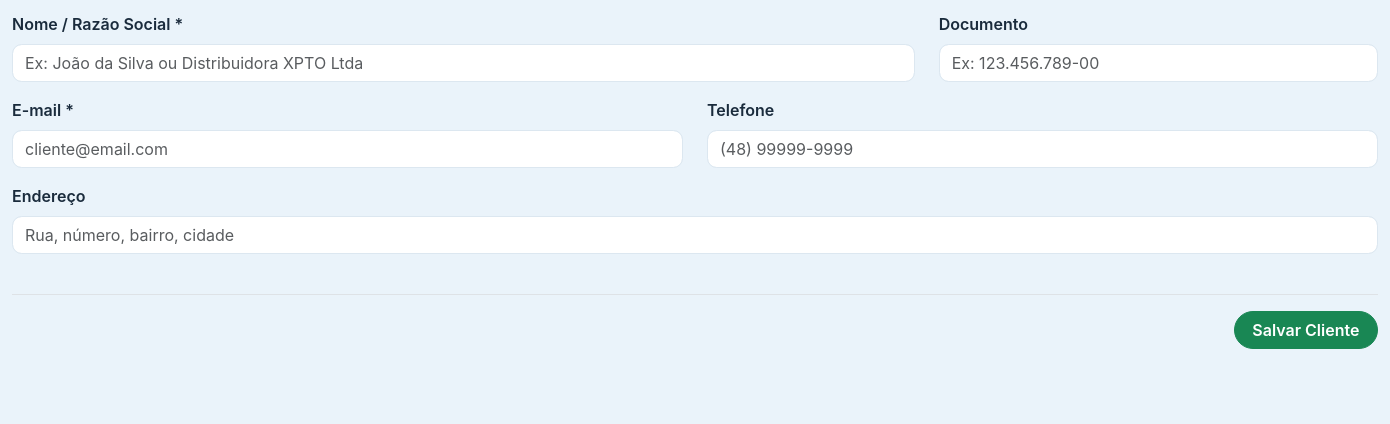
Organism FormCreateClient › deve exibir mensagem de erro se o documento contiver caracteres inválidos
This screenshot has width=1390, height=424.
In the field labelled "Nome / Razão Social *": [463, 63] box [12, 44, 915, 82], type "Cliente Teste"
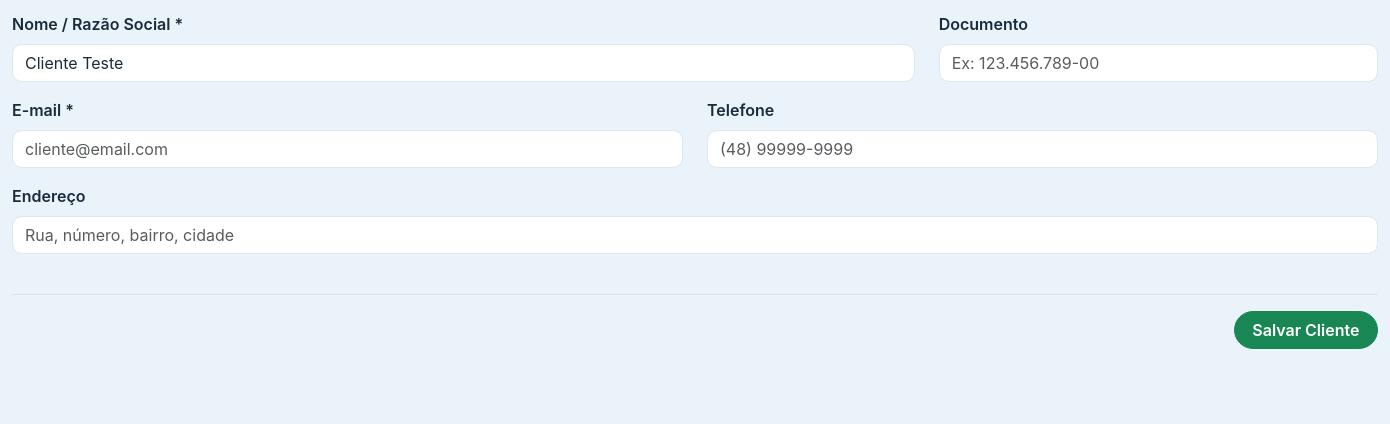
In the field labelled "E-mail *": [348, 149] box [12, 130, 683, 168], type "teste@cliente.com"
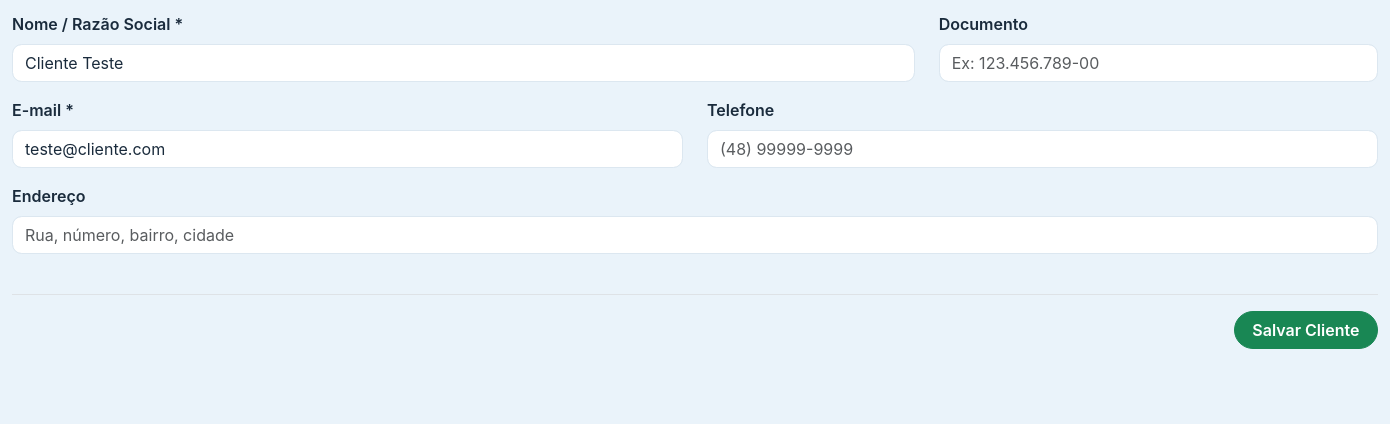
In the field labelled "Documento": [1158, 63] box [939, 44, 1378, 82], type "123.456.789-00abc"
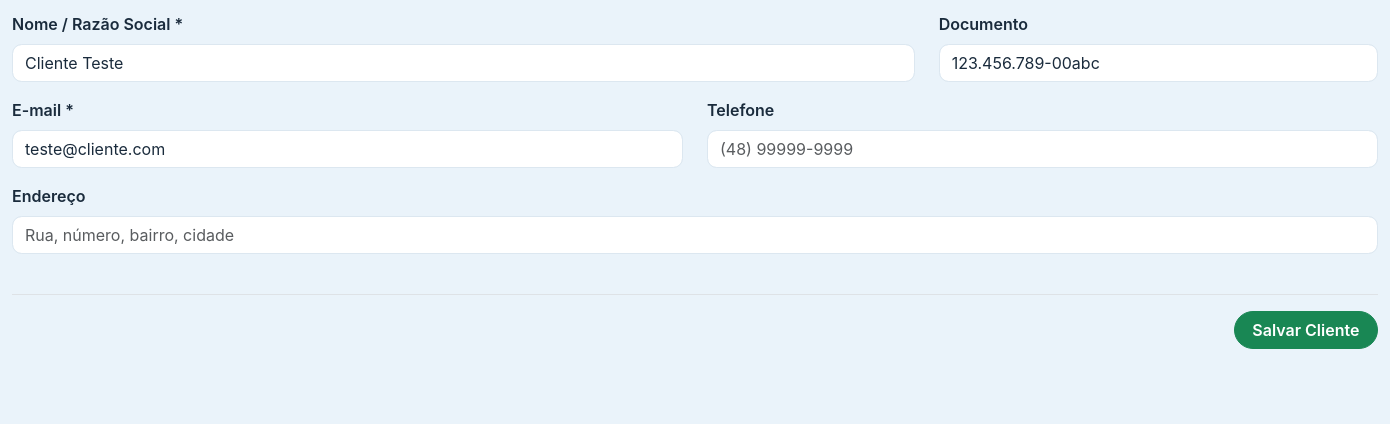
Click the button "Salvar Cliente": [1306, 330] box [1234, 311, 1378, 349]
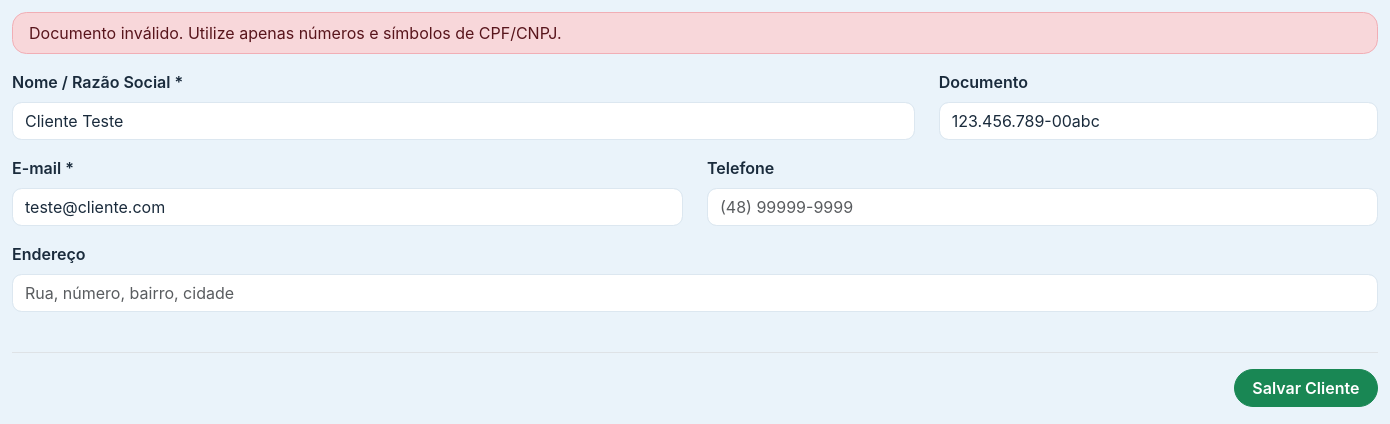
Expected: the text "Documento inválido. Utilize apenas números e símbolos de CPF/CNPJ." is shown, [12, 12, 1378, 54]
